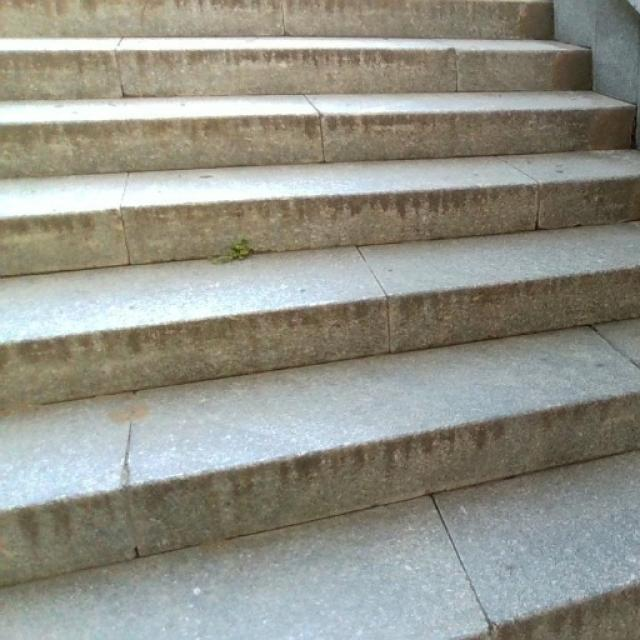Stairs: (0, 0, 639, 616)
